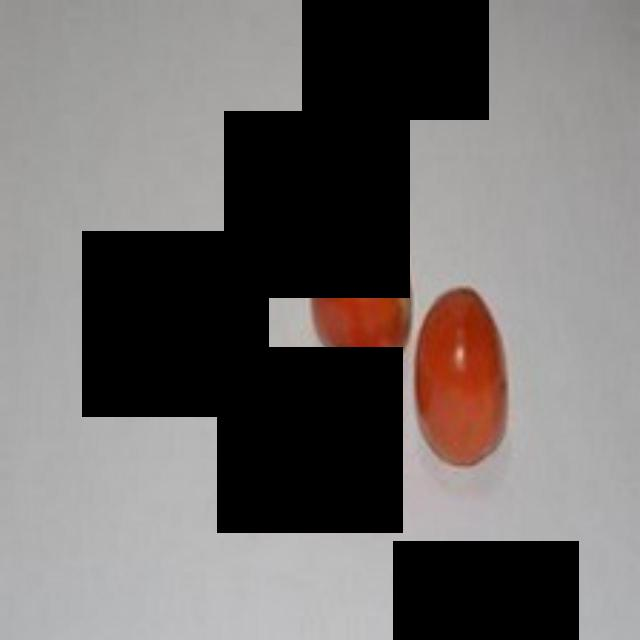tomato: (403, 273, 513, 473), (296, 220, 412, 351), (313, 353, 397, 483)
